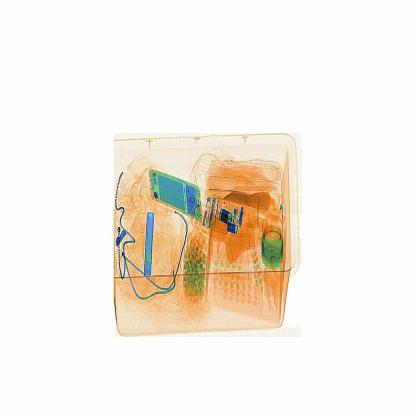pliers: (142, 213, 156, 281)
